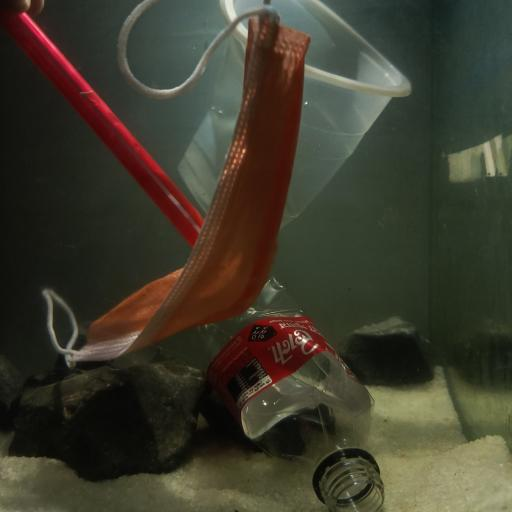mask: (33, 0, 308, 364)
plastic_bottle: (171, 268, 383, 512)
plastic_cup: (183, 0, 411, 239)
plastic_straw: (5, 8, 205, 246)
